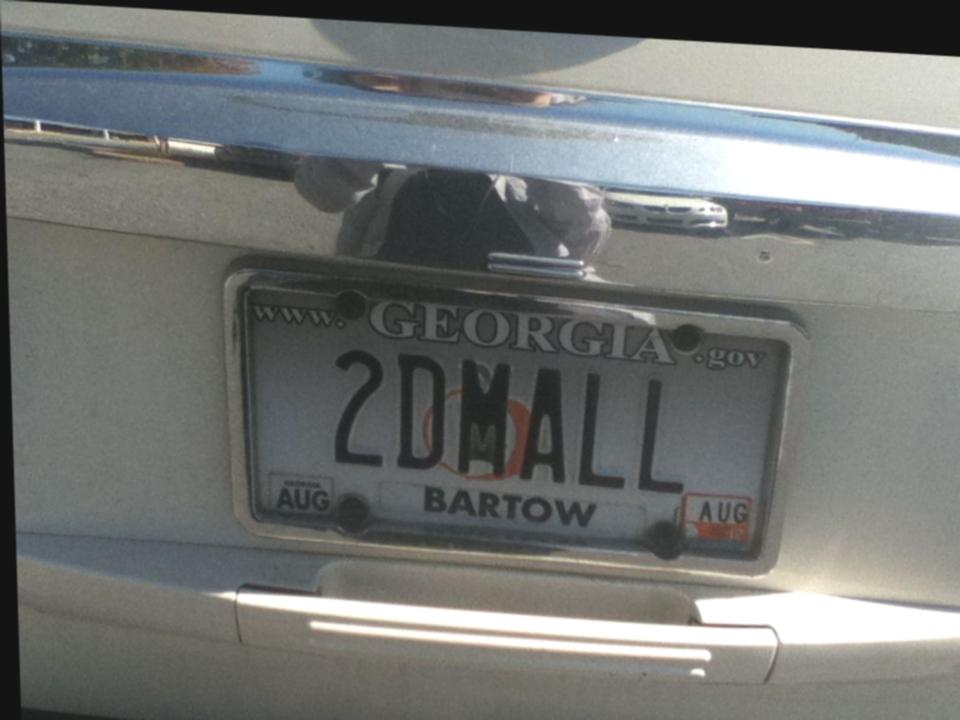License_Plate: (250, 287, 778, 566)
